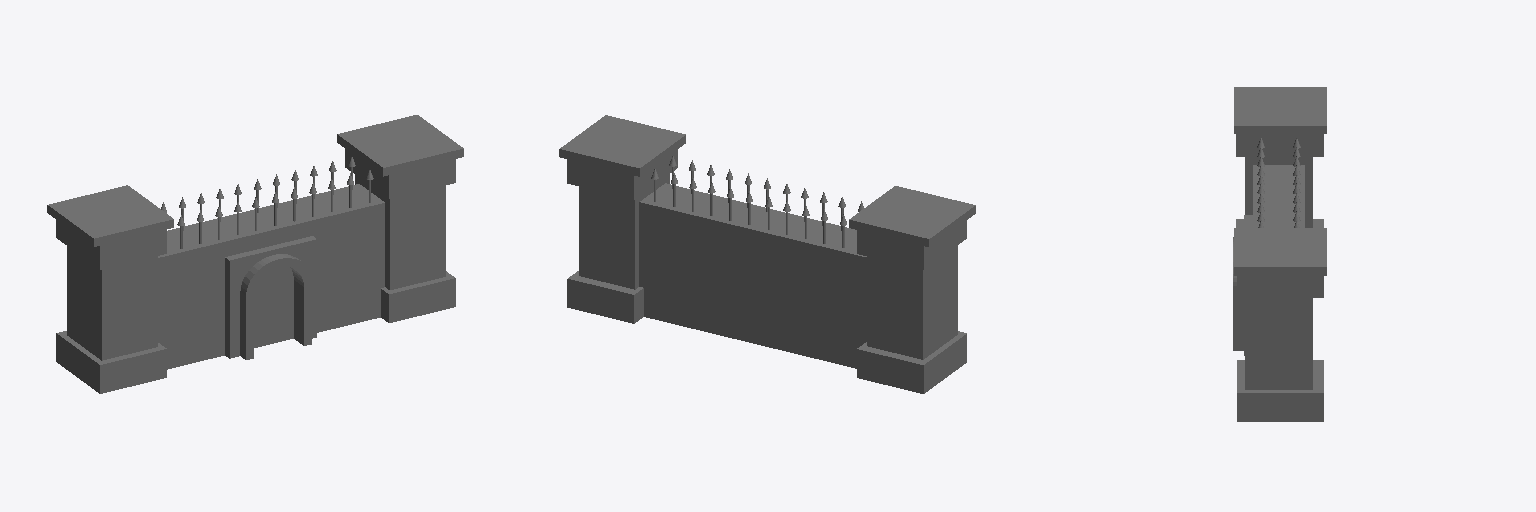
Rendered from fortress.obj.
The picture shows the model from 3 angles: view 1: azimuth 30°, elevation 25°; view 2: azimuth 150°, elevation 25°; view 3: azimuth 270°, elevation 25°; orthographic projection.
Parts seen in each view (by area): view 1: polySurface145; view 2: polySurface145; view 3: polySurface145.
Boxes of the visible parts, <box> form: polySurface145: <box>47,115,463,393</box>; polySurface145: <box>559,115,975,393</box>; polySurface145: <box>1233,87,1326,421</box>.
Size of the model in its own units: 59.1 by 24.16 by 13.02.